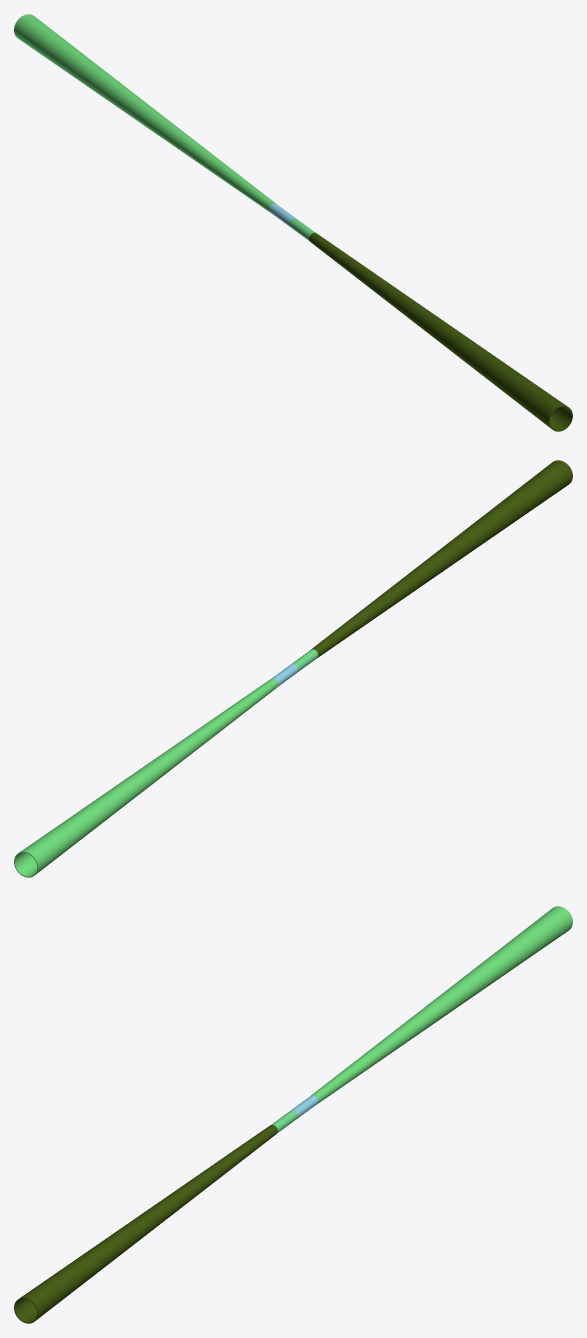
File: IDEA_o1_v04.gltf
The picture shows the model from 3 angles, top to bottom: view 1: azimuth 30°, elevation 25°; view 2: azimuth 150°, elevation 25°; view 3: azimuth 330°, elevation 25°; orthographic projection.
Parts seen in each view (by area): view 1: tube_AlBeMet162_wall_6, tube_AlBeMet162_wall2_7; view 2: tube_AlBeMet162_wall2_7, tube_AlBeMet162_wall_6; view 3: tube_AlBeMet162_wall_6, tube_AlBeMet162_wall2_7.
Part boxes in pixels (bbox=[...]): tube_AlBeMet162_wall_6: bbox=[309, 232, 572, 431]; tube_AlBeMet162_wall2_7: bbox=[14, 14, 275, 211]; tube_AlBeMet162_wall2_7: bbox=[14, 678, 277, 877]; tube_AlBeMet162_wall_6: bbox=[311, 460, 572, 657]; tube_AlBeMet162_wall_6: bbox=[14, 1124, 277, 1323]; tube_AlBeMet162_wall2_7: bbox=[311, 906, 572, 1103].
Size of the model in its own units: 6.18 by 6.15 by 238.
